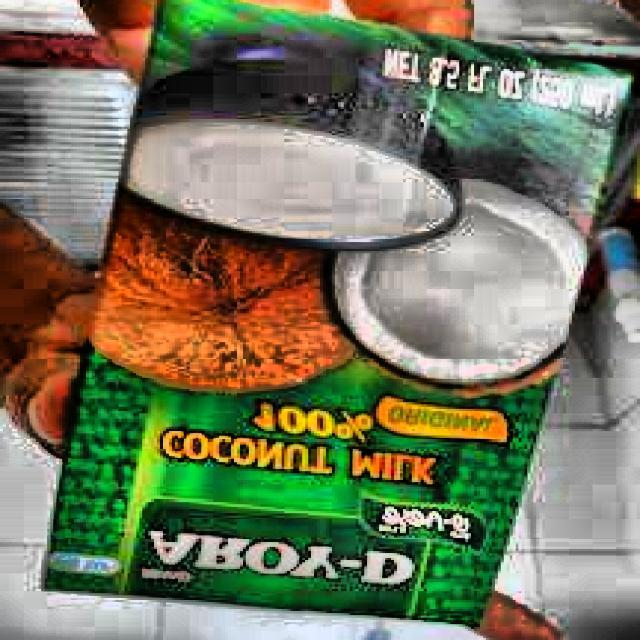cardboard: (35, 0, 640, 638)
